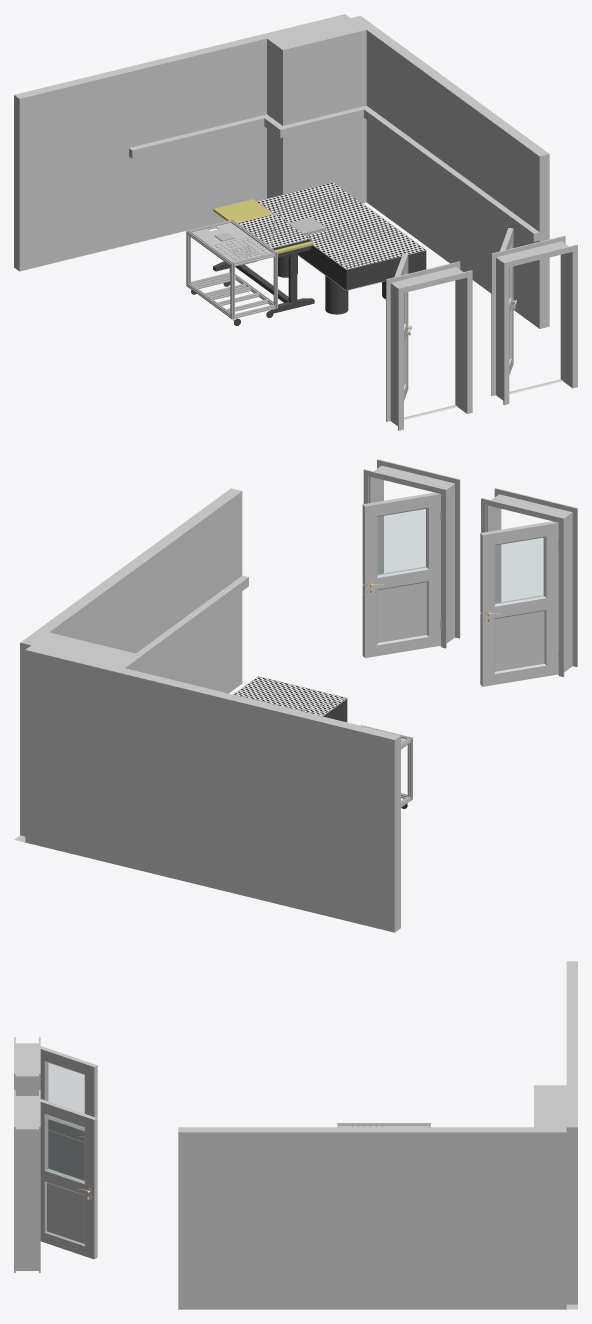
File: ANOTHER_LAB_TRY.dae
3 views of the same model, one above another, from view 1: azimuth 30°, elevation 25°; view 2: azimuth 150°, elevation 25°; view 3: azimuth 270°, elevation 25° (orthographic). The views are drawn at different scales.
Parts seen in each view (by area): view 1: Mesh72_Model, Mesh6_Group7_Group3_Model, Mesh71_G_20170418___External_Back_Door_30_cm_Wall_with_insid, Mesh58_G_20170418___External_Back_Door_30_cm_Wall_with_insid, Mesh8_Group9_Group3_Model, Mesh44_Group45_Group44_Group17_Model, Mesh1_Group1_Model, Mesh11_Group13_Group11_Model, Mesh12_Group14_Group11_Model, Mesh56_G_20170418___Internal_Door_Door_3_1_G_20170418___Exte, Mesh4_Group5_Group3_Model, Mesh69_G_20170418___Internal_Door_Door_3_2_G_20170418___Exte; view 2: Mesh72_Model, Mesh69_G_20170418___Internal_Door_Door_3_2_G_20170418___Exte, Mesh56_G_20170418___Internal_Door_Door_3_1_G_20170418___Exte, Mesh71_G_20170418___External_Back_Door_30_cm_Wall_with_insid, Mesh58_G_20170418___External_Back_Door_30_cm_Wall_with_insid, Mesh55_Window_Plane_1_1_G_20170418___Internal_Door_Door_3_1_, Mesh68_Window_Plane_1_2_G_20170418___Internal_Door_Door_3_2_, Mesh6_Group7_Group3_Model; view 3: Mesh72_Model, Mesh69_G_20170418___Internal_Door_Door_3_2_G_20170418___Exte, Mesh71_G_20170418___External_Back_Door_30_cm_Wall_with_insid, Mesh56_G_20170418___Internal_Door_Door_3_1_G_20170418___Exte, Mesh68_Window_Plane_1_2_G_20170418___Internal_Door_Door_3_2_, Mesh55_Window_Plane_1_1_G_20170418___Internal_Door_Door_3_1_, Mesh58_G_20170418___External_Back_Door_30_cm_Wall_with_insid.
Boxes of the visible parts, box(x1,y1,x2,y2) form: Mesh72_Model: box(14, 14, 549, 328); Mesh6_Group7_Group3_Model: box(256, 182, 426, 269); Mesh71_G_20170418___External_Back_Door_30_cm_Wall_with_insid: box(491, 235, 577, 404); Mesh58_G_20170418___External_Back_Door_30_cm_Wall_with_insid: box(386, 261, 472, 430); Mesh8_Group9_Group3_Model: box(296, 245, 426, 290); Mesh44_Group45_Group44_Group17_Model: box(192, 223, 271, 261); Mesh1_Group1_Model: box(237, 214, 310, 249); Mesh11_Group13_Group11_Model: box(213, 199, 313, 253); Mesh12_Group14_Group11_Model: box(270, 246, 314, 313); Mesh56_G_20170418___Internal_Door_Door_3_1_G_20170418___Exte: box(394, 253, 408, 400); Mesh4_Group5_Group3_Model: box(325, 276, 348, 314); Mesh69_G_20170418___Internal_Door_Door_3_2_G_20170418___Exte: box(500, 228, 513, 374); Mesh72_Model: box(14, 488, 400, 932); Mesh69_G_20170418___Internal_Door_Door_3_2_G_20170418___Exte: box(362, 492, 440, 657); Mesh56_G_20170418___Internal_Door_Door_3_1_G_20170418___Exte: box(480, 521, 558, 686); Mesh71_G_20170418___External_Back_Door_30_cm_Wall_with_insid: box(363, 459, 460, 648); Mesh58_G_20170418___External_Back_Door_30_cm_Wall_with_insid: box(481, 488, 577, 676); Mesh55_Window_Plane_1_1_G_20170418___Internal_Door_Door_3_1_: box(495, 537, 544, 604); Mesh68_Window_Plane_1_2_G_20170418___Internal_Door_Door_3_2_: box(377, 508, 426, 575); Mesh6_Group7_Group3_Model: box(233, 676, 347, 716); Mesh72_Model: box(178, 961, 577, 1309); Mesh69_G_20170418___Internal_Door_Door_3_2_G_20170418___Exte: box(40, 1099, 97, 1259); Mesh71_G_20170418___External_Back_Door_30_cm_Wall_with_insid: box(14, 1090, 40, 1272); Mesh56_G_20170418___Internal_Door_Door_3_1_G_20170418___Exte: box(40, 1046, 97, 1180); Mesh68_Window_Plane_1_2_G_20170418___Internal_Door_Door_3_2_: box(47, 1115, 84, 1181); Mesh55_Window_Plane_1_1_G_20170418___Internal_Door_Door_3_1_: box(47, 1062, 84, 1128); Mesh58_G_20170418___External_Back_Door_30_cm_Wall_with_insid: box(14, 1037, 40, 1095).
Size of the model in its own units: 20.38 by 28.39 by 9.85.
